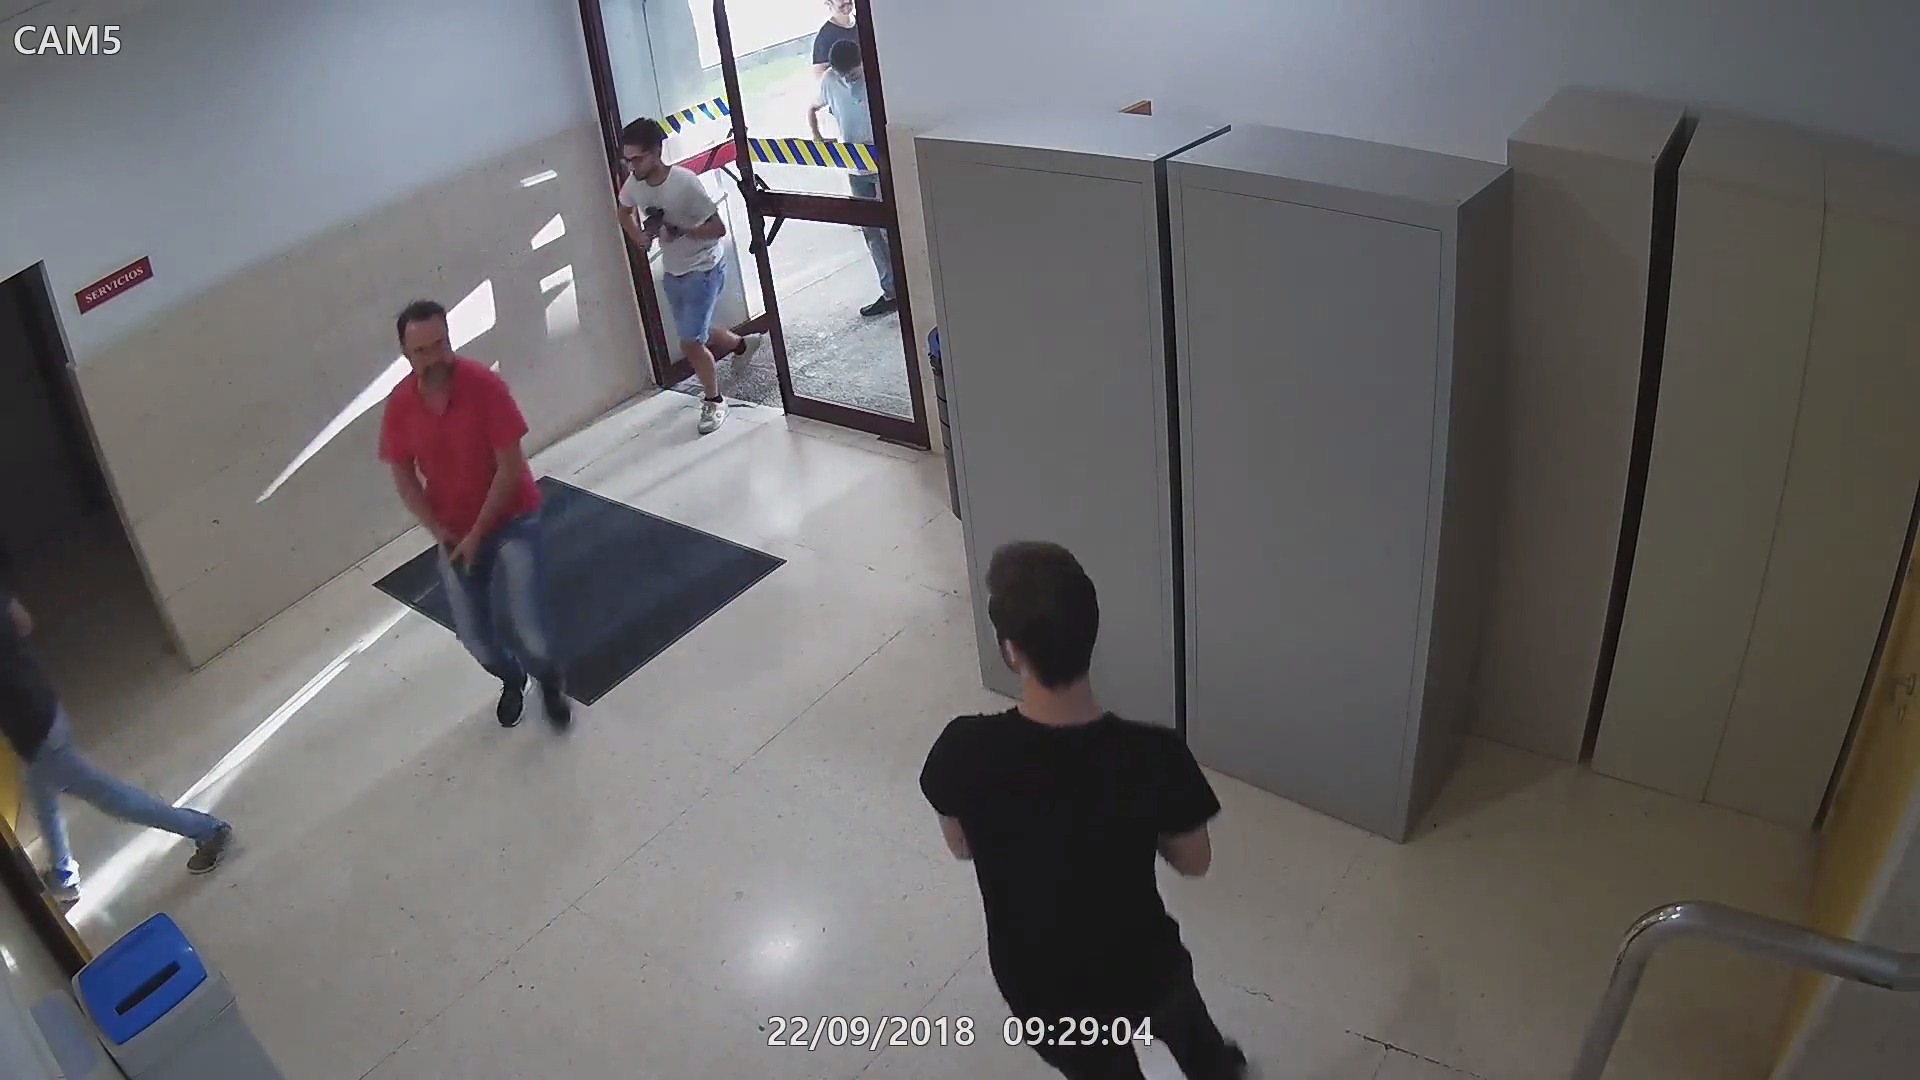Handgun: (436, 527, 483, 589)
Short_rifle: (634, 203, 683, 252)
